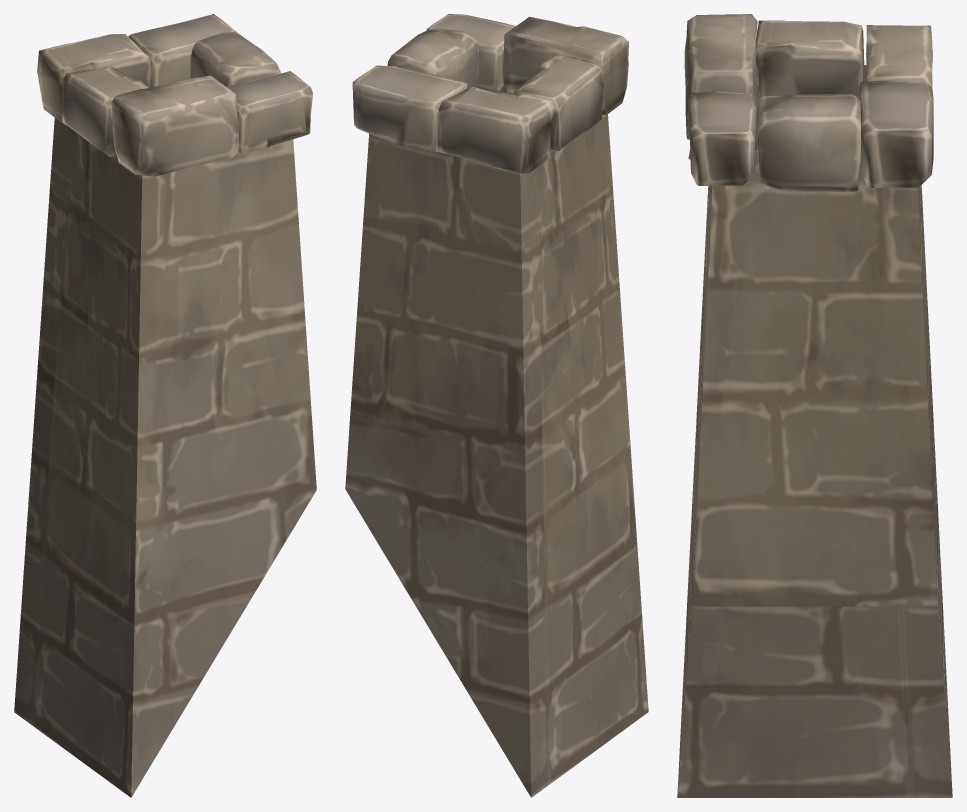
File: Prop_Chimney.gltf
3 views of the same model, side by side, from view 1: azimuth 30°, elevation 25°; view 2: azimuth 150°, elevation 25°; view 3: azimuth 270°, elevation 25° (orthographic). The views are drawn at different scales.
Visible parts, largest first — view 1: Prop_Chimney; view 2: Prop_Chimney; view 3: Prop_Chimney.
Boxes of the visible parts, box(x1,y1,x2,y2) form: Prop_Chimney: box(14, 14, 316, 797); Prop_Chimney: box(345, 14, 648, 797); Prop_Chimney: box(677, 14, 952, 797).
Size of the model in its own units: 0.9458 by 3.18 by 1.
Materials: 2 (2 with a texture image).
